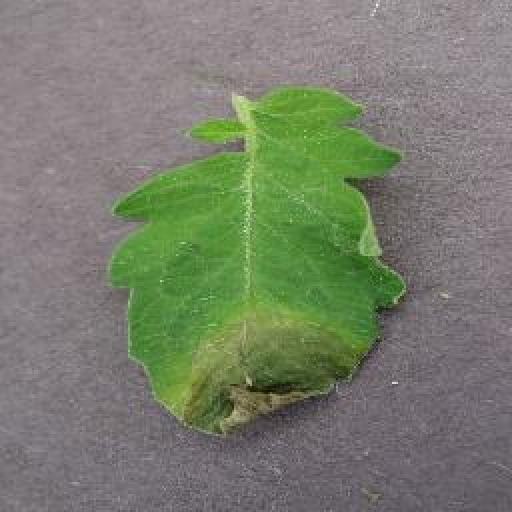disease_tomato: (109, 77, 407, 443)
